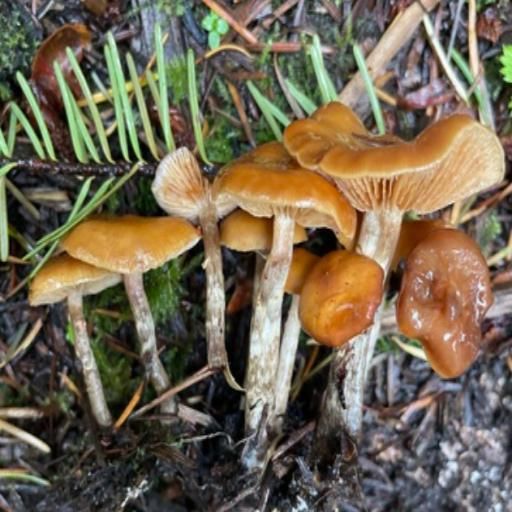Funeral Bell: (26, 89, 512, 512)
